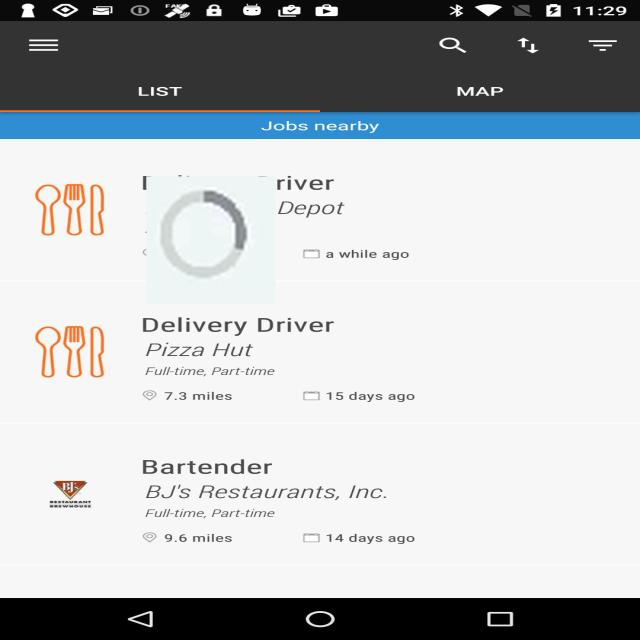misdirection: (147, 176, 276, 305)
